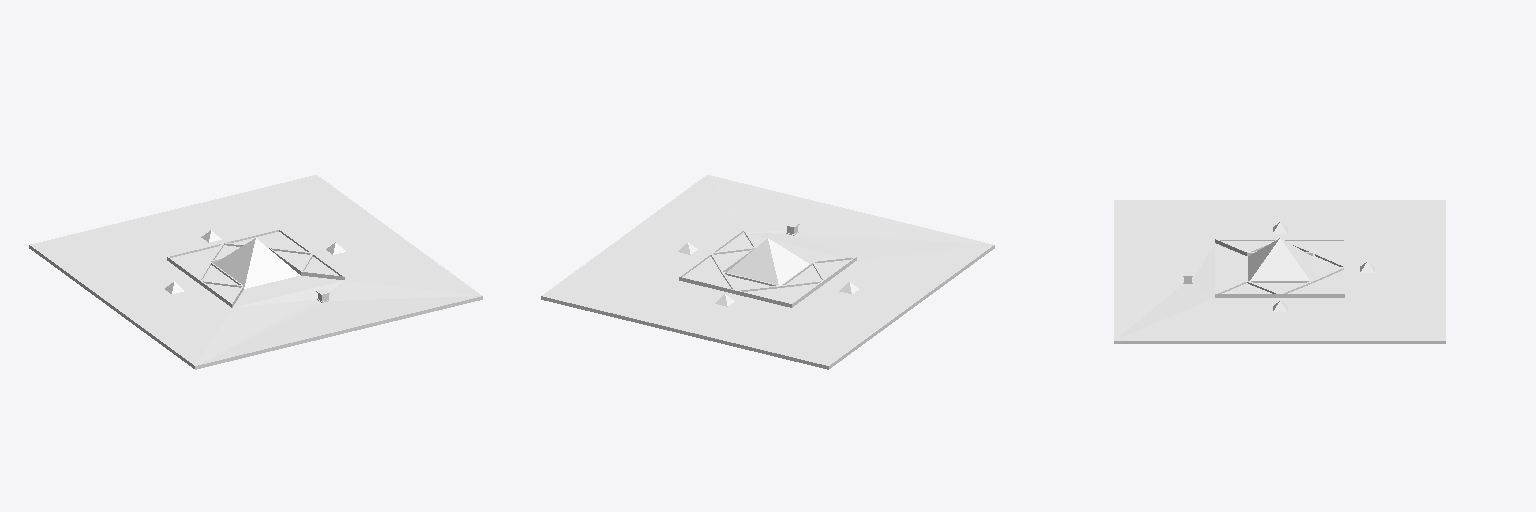
Rendered from louvre_ground.obj.
3 renders of one model, left to right at view 1: azimuth 30°, elevation 25°; view 2: azimuth 150°, elevation 25°; view 3: azimuth 270°, elevation 25°, orthographic.
Parts seen in each view (by area): view 1: Cube25, Cube19; view 2: Cube25, Cube19; view 3: Cube25, Cube19.
Boxes of the visible parts, x1=… form: Cube25: x1=29, y1=175, x2=482, y2=369; Cube19: x1=214, y1=238, x2=299, y2=288; Cube25: x1=541, y1=175, x2=994, y2=369; Cube19: x1=727, y1=238, x2=808, y2=285; Cube25: x1=1114, y1=200, x2=1445, y2=343; Cube19: x1=1248, y1=238, x2=1312, y2=280.
Size of the model in its own units: 8.02 by 0.9624 by 8.02.